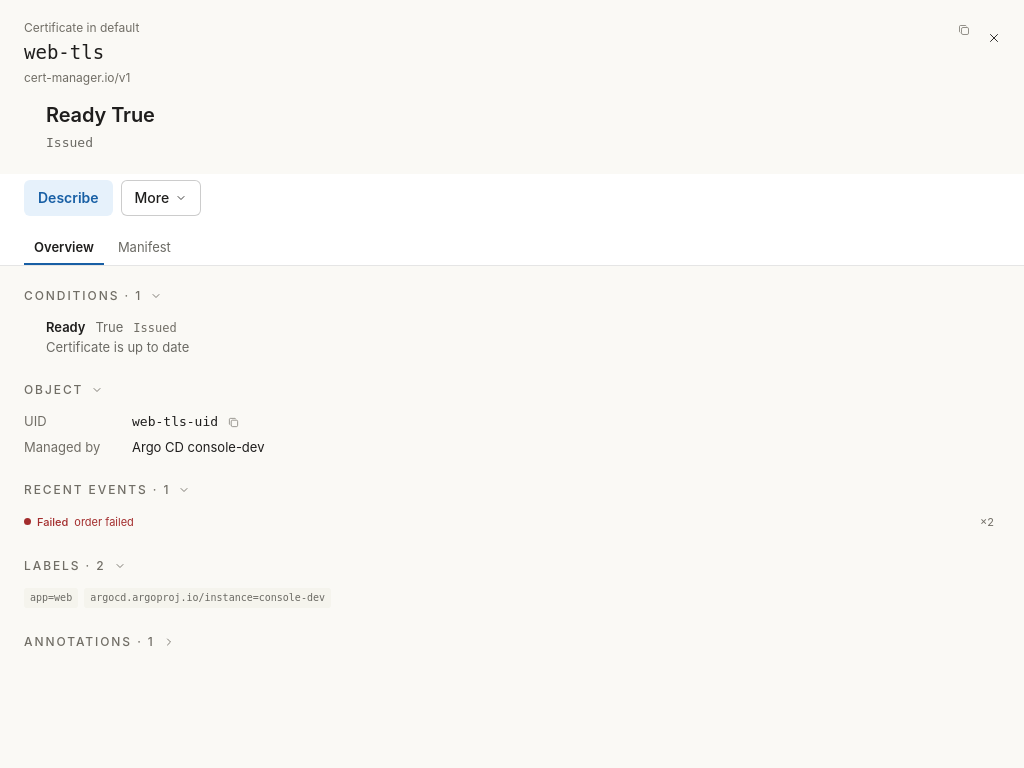
Scenario: InstanceDetail › shows GitOps ownership warning only in the YAML editor
Expected: the text "Live edits may be reverted" is not shown
Click the tab "Manifest": (144, 247) [108,229,181,265]
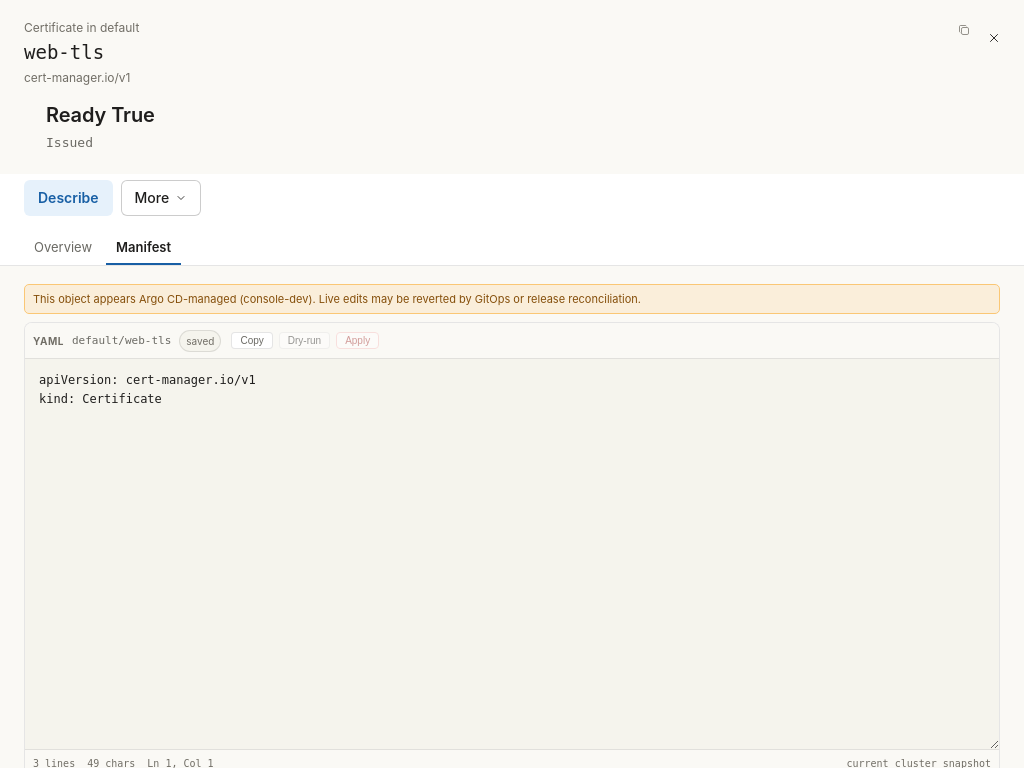
Expected: the text "Argo CD-managed" is shown, [24,284,1000,314]
Expected: the text "Live edits may be reverted by GitOps or release reconciliation" is shown, [308,292,641,306]
